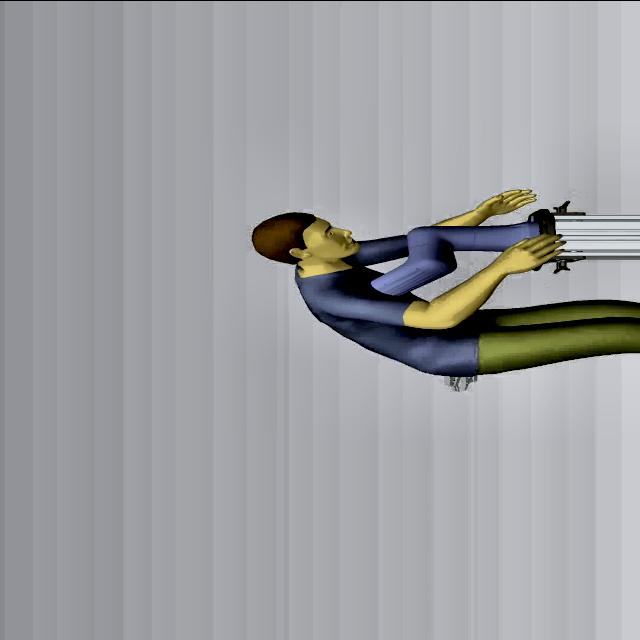human: (250, 188, 638, 383)
robot: (359, 209, 563, 299)
